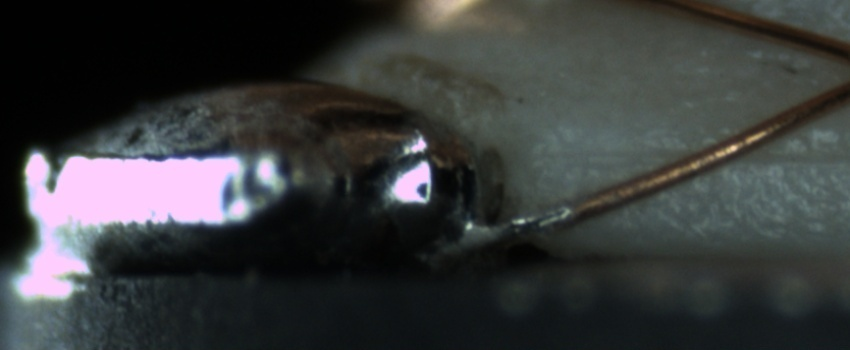DL: (549, 123, 850, 185)
